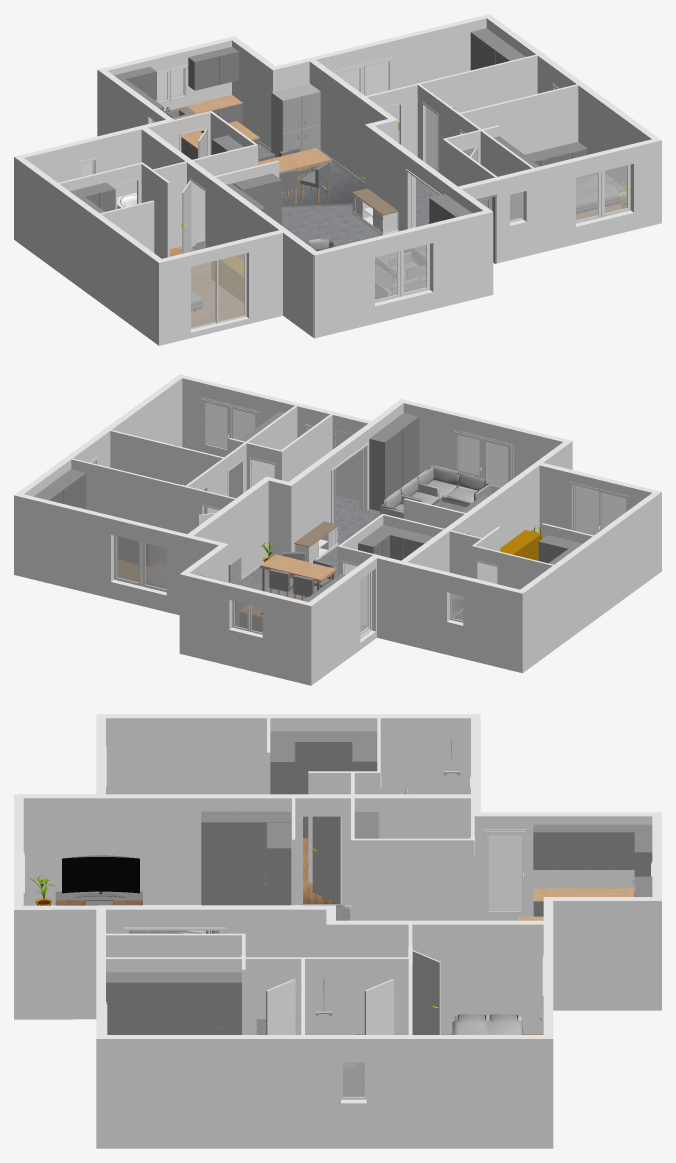
File: Demo.glb
3 renders of one model, top to bottom at view 1: azimuth 30°, elevation 25°; view 2: azimuth 150°, elevation 25°; view 3: azimuth 270°, elevation 25°, orthographic. The views are drawn at different scales.
Visible parts, largest first — view 1: demo; view 2: demo; view 3: demo.
Boxes of the visible parts, x1,y1,x2,y2 form: demo: (14, 14, 661, 345); demo: (14, 374, 661, 685); demo: (14, 714, 661, 1148).
Size of the model in its own units: 15.86 by 2.5 by 13.37.
Materials: 43 (11 with a texture image).
